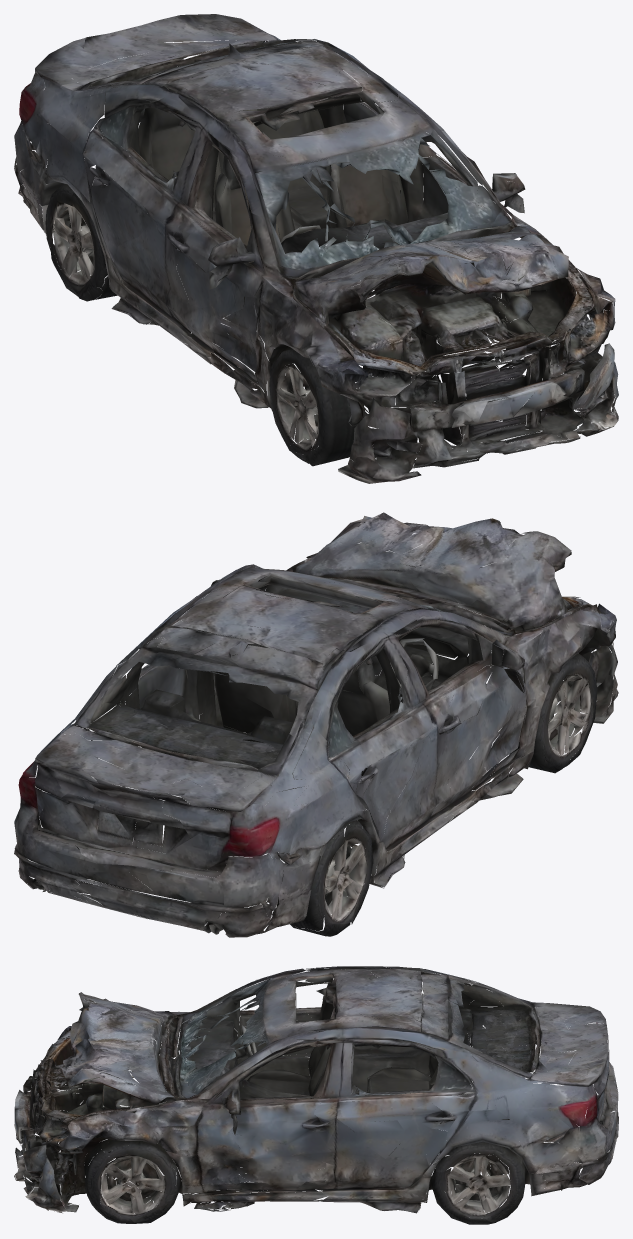
The model's file is burned-sedan-v1.glb.
The picture shows the model from 3 angles, top to bottom: view 1: azimuth 30°, elevation 25°; view 2: azimuth 150°, elevation 25°; view 3: azimuth 270°, elevation 25°; orthographic projection. The views are drawn at different scales.
Visible parts, largest first — view 1: burned-sedan; view 2: burned-sedan; view 3: burned-sedan.
Part boxes in pixels (x1=…): burned-sedan: x1=14, y1=14, x2=618, y2=483; burned-sedan: x1=14, y1=512, x2=618, y2=937; burned-sedan: x1=14, y1=966, x2=618, y2=1224.
Size of the model in its own units: 2.14 by 1.53 by 4.6.
Materials: 1 (1 with a texture image).
